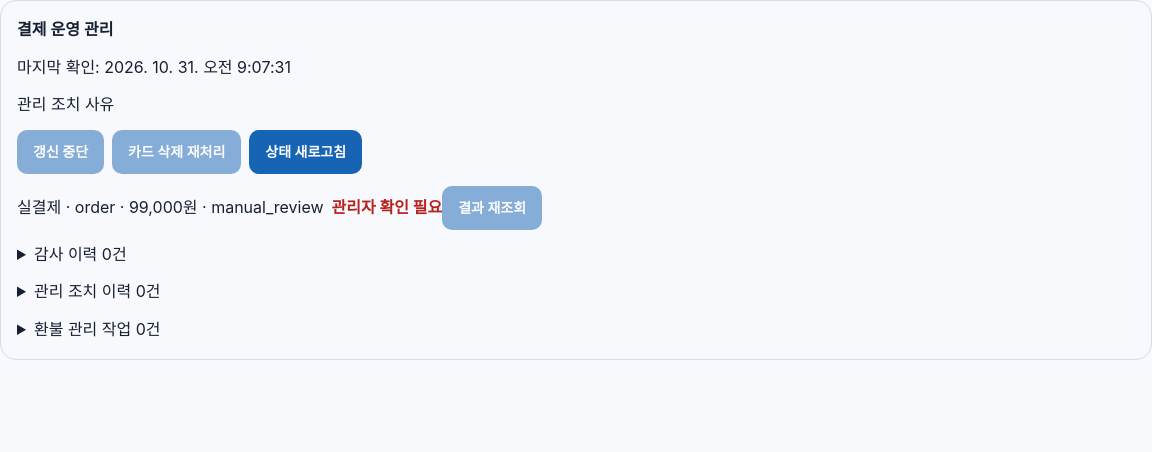
Test: replays the same pending action after response loss and keeps it until completion is confirmed
Expected: the button "결과 재조회" is shown, [442,186,542,230]
Type "카드 삭제 확인" into the field labelled "관리 조치 사유".
click(238, 105); type("카드 삭제 확인")  # box [114,92,362,118]
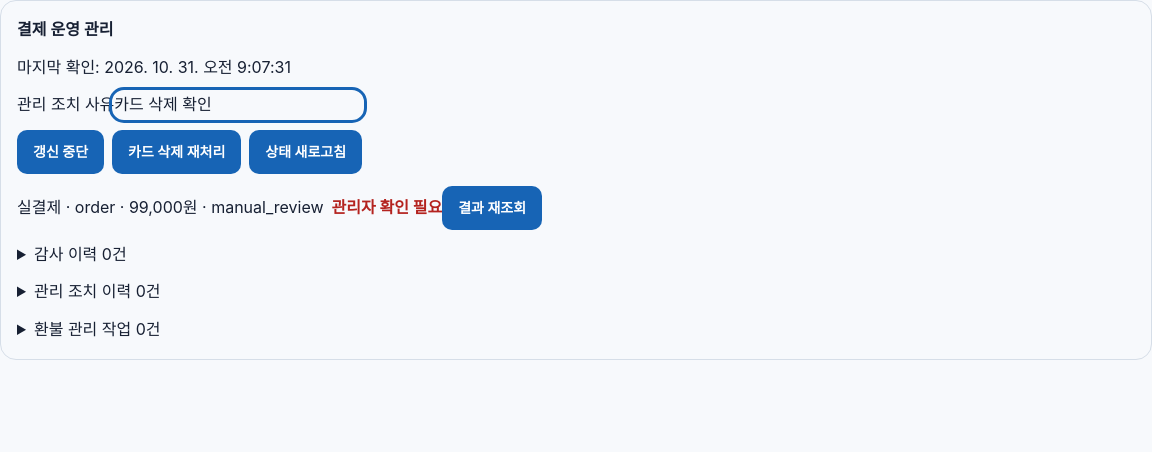
Click the button "카드 삭제 재처리".
click(177, 152)  # box [112,130,241,174]
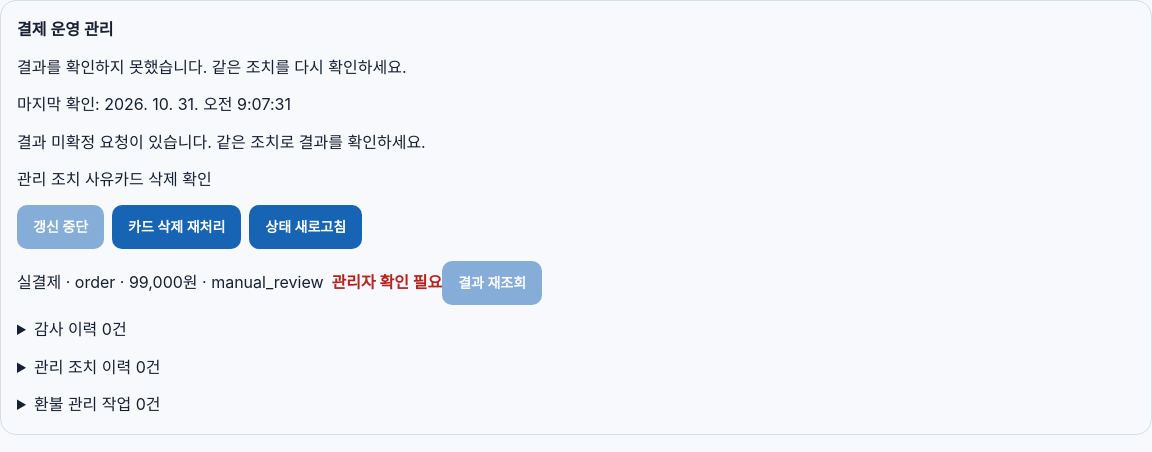
Result: the message "결과를 확인하지 못했습니다. 같은 조치를 다시 확인하세요." is shown at [17,57,406,77]
Click the button "카드 삭제 재처리".
click(177, 227)  # box [112,205,241,249]
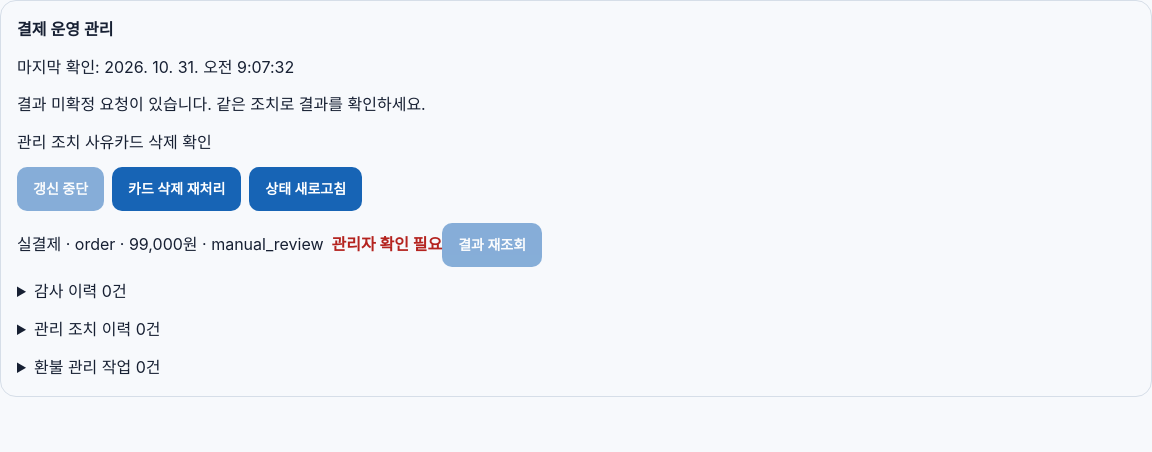
Result: the button "갱신 중단" is disabled at [17,167,104,211]
Click the button "카드 삭제 재처리".
click(177, 189)  # box [112,167,241,211]
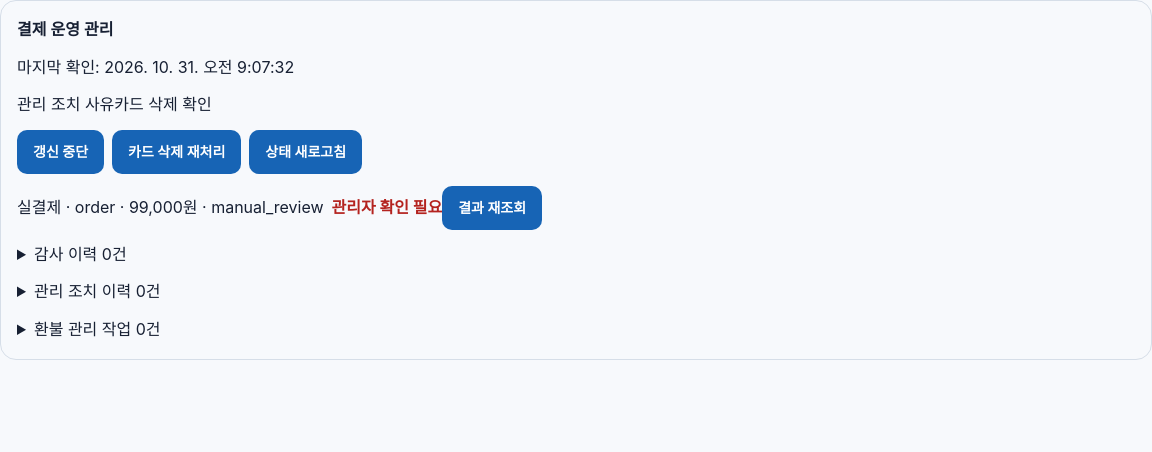
Result: the field labelled "관리 조치 사유" is enabled at [114,92,362,118]
